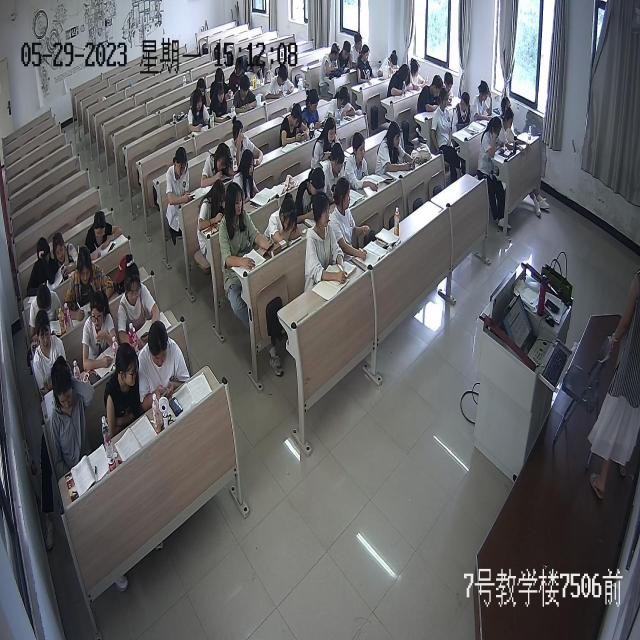distracted: (48, 358, 95, 469), (105, 342, 144, 440), (84, 292, 117, 370), (28, 234, 58, 294), (450, 91, 474, 137), (318, 42, 342, 81), (336, 41, 354, 77)
focused: (117, 257, 161, 343), (306, 192, 346, 286), (66, 246, 116, 316), (30, 313, 66, 394), (330, 176, 362, 254), (344, 134, 375, 196), (300, 163, 330, 226), (199, 178, 229, 238), (228, 120, 262, 172), (310, 115, 341, 170), (232, 149, 260, 208), (31, 283, 62, 333), (430, 84, 452, 150), (477, 116, 503, 171), (86, 209, 121, 249), (324, 143, 348, 201), (264, 66, 298, 102), (415, 72, 444, 114), (210, 82, 236, 124), (374, 45, 399, 84), (472, 80, 494, 124), (234, 74, 257, 115), (496, 108, 516, 147), (355, 43, 374, 83), (387, 63, 409, 94), (349, 32, 364, 67), (440, 68, 455, 101)
sleep: (265, 191, 302, 251)
using_phone: (219, 182, 275, 272), (138, 323, 191, 418), (379, 123, 417, 183), (167, 148, 197, 212), (52, 227, 84, 283), (200, 145, 234, 193), (281, 104, 312, 155), (324, 84, 358, 127), (302, 88, 328, 138), (188, 88, 214, 138), (408, 54, 429, 94)
